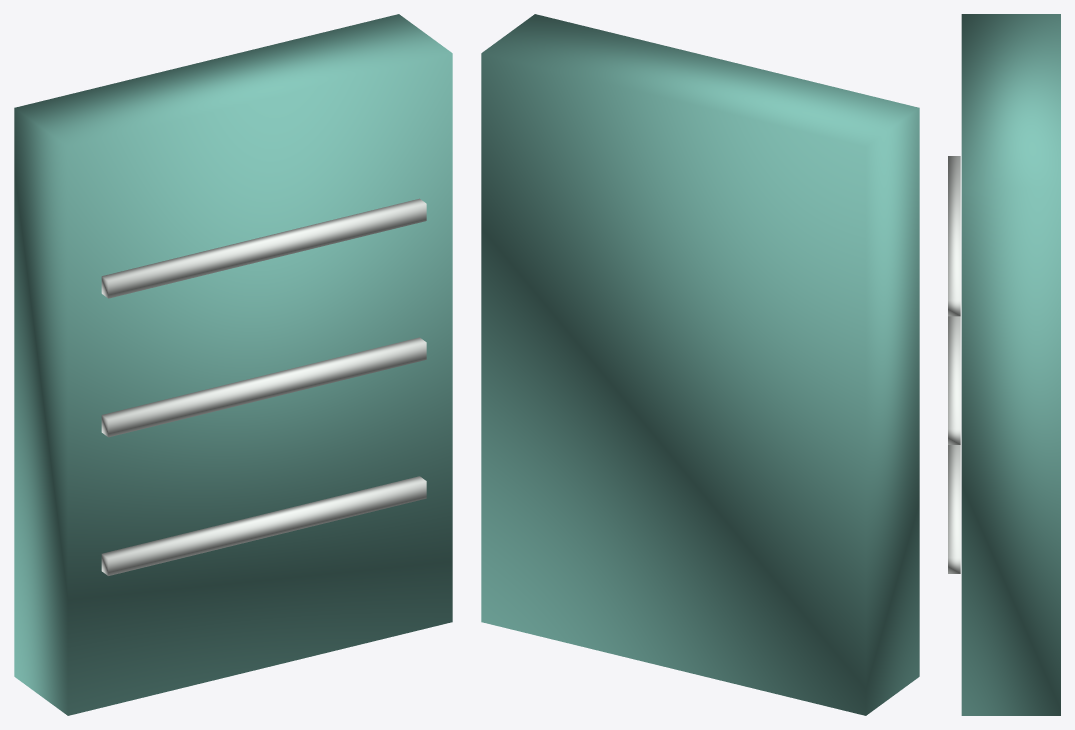
Rendered from tool-cooling.glb.
3 renders of one model, left to right at view 1: azimuth 30°, elevation 25°; view 2: azimuth 150°, elevation 25°; view 3: azimuth 270°, elevation 25°, orthographic. The views are drawn at different scales.
Parts seen in each view (by area): view 1: soft cooling pad, pad quilt.002, pad quilt.001, pad quilt; view 2: soft cooling pad; view 3: soft cooling pad, pad quilt.002, pad quilt, pad quilt.001.
Boxes of the visible parts, x1,y1,x2,y2 form: soft cooling pad: (14, 14, 452, 715); pad quilt.002: (101, 198, 426, 298); pad quilt.001: (101, 337, 426, 437); pad quilt: (101, 476, 426, 575); soft cooling pad: (481, 14, 919, 715); soft cooling pad: (961, 14, 1060, 715); pad quilt.002: (948, 156, 960, 316); pad quilt: (948, 445, 960, 573); pad quilt.001: (948, 316, 960, 444).
Size of the model in its own units: 0.58 by 0.82 by 0.159.
